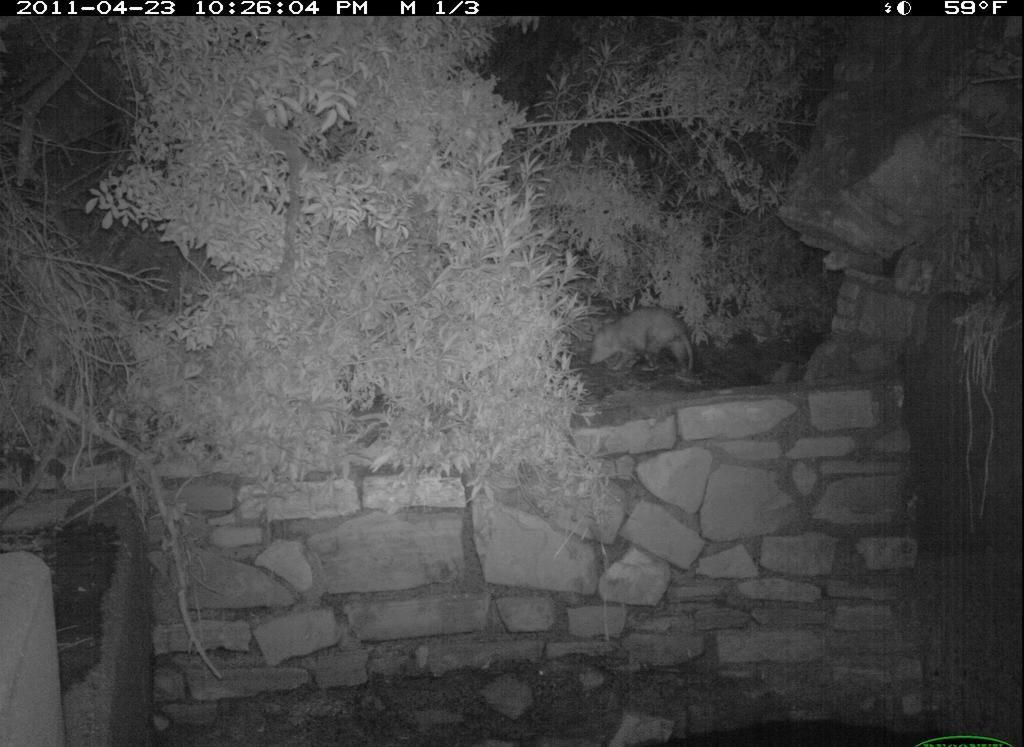opossum: (583, 303, 701, 392)
